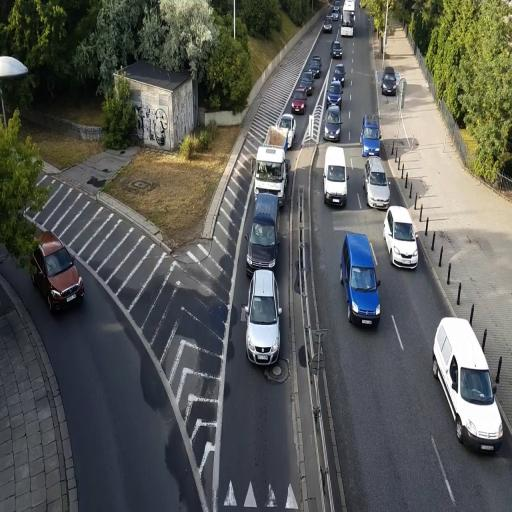vehicle: (432, 315, 504, 454), (245, 145, 286, 275), (29, 238, 85, 316), (340, 232, 382, 328), (244, 269, 282, 367), (246, 182, 282, 274), (383, 205, 419, 270), (254, 146, 287, 205), (324, 146, 348, 209), (364, 156, 391, 210), (361, 115, 381, 158), (278, 112, 296, 150), (324, 104, 342, 140), (381, 68, 398, 96), (290, 92, 306, 114), (310, 56, 322, 78), (331, 40, 344, 60), (324, 14, 336, 31)
